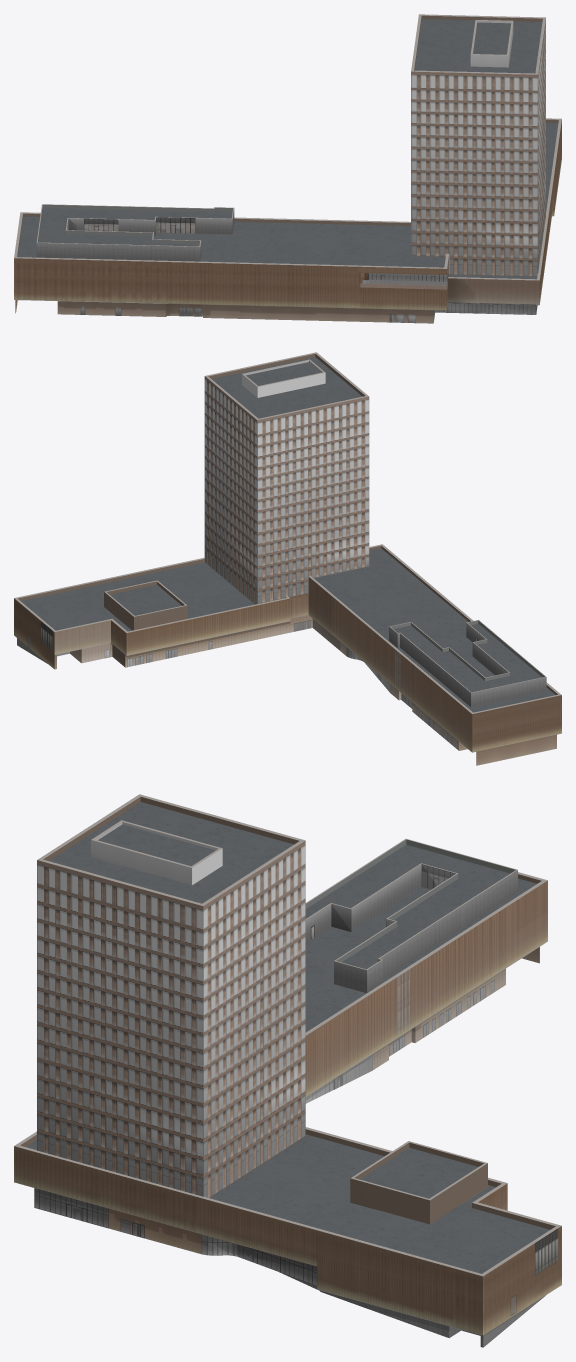
3 renders of one model, top to bottom at view 1: azimuth 30°, elevation 25°; view 2: azimuth 150°, elevation 25°; view 3: azimuth 270°, elevation 25°, orthographic. The views are drawn at different scales.
Visible parts, largest first — view 1: Mesh_0, Mesh_1; view 2: Mesh_0, Mesh_1; view 3: Mesh_0, Mesh_1.
Boxes of the visible parts, bbox=[...] form: Mesh_0: bbox=[14, 14, 561, 305]; Mesh_1: bbox=[14, 208, 537, 323]; Mesh_0: bbox=[14, 352, 561, 713]; Mesh_1: bbox=[17, 577, 561, 765]; Mesh_0: bbox=[14, 794, 561, 1335]; Mesh_1: bbox=[34, 864, 547, 1347].
Bounding box in the file's own units: 204 × 87.68 × 116.
2 materials, 2 textured.
